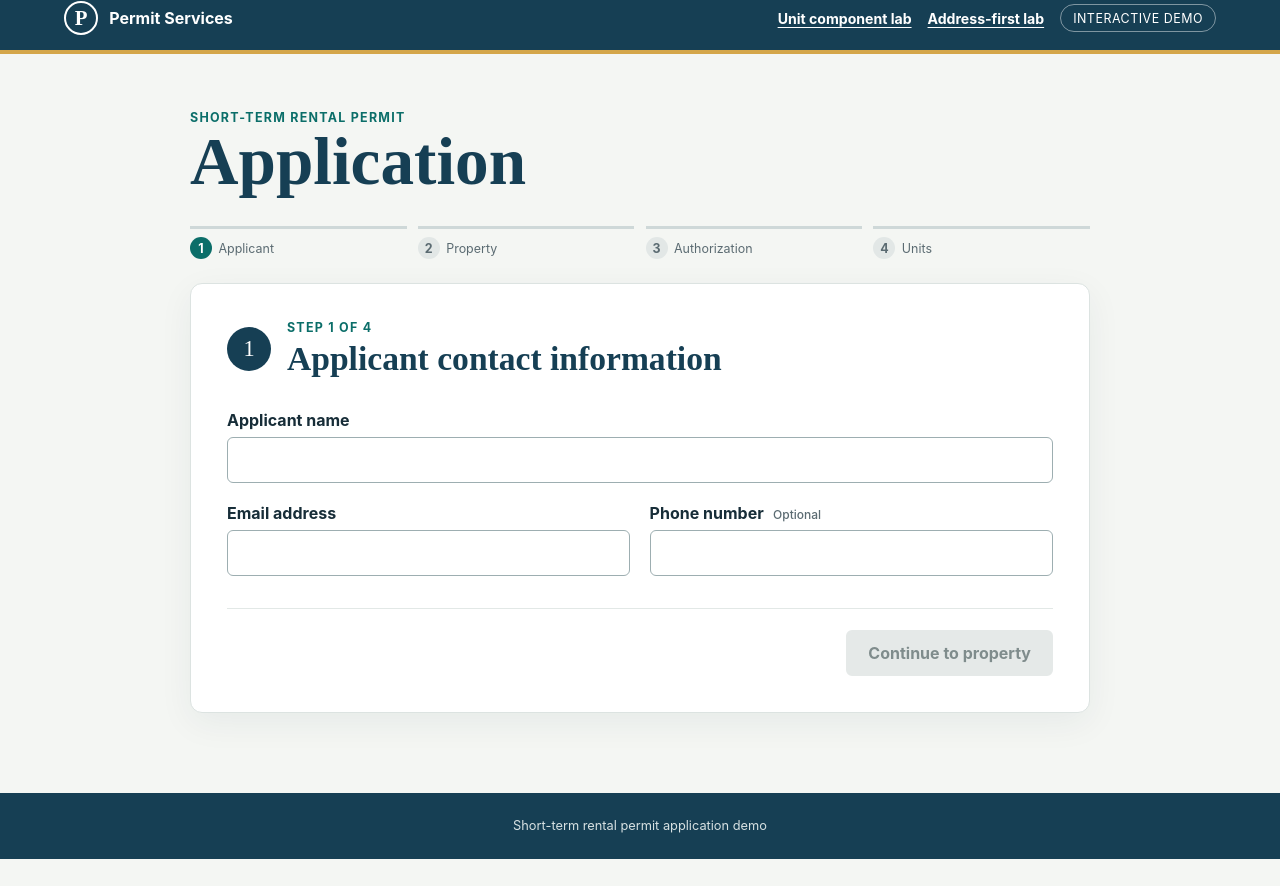
Scenario: STR permit application › finds the property by PAN and rejects an unknown PAN
The width and height of the screenshot is (1280, 886).
Type "Taylor Morgan" into the field with id "applicant-name" at [640, 460], box [227,437,1053,483]
Type "taylor@example.com" into the field with id "applicant-email" at [429, 553], box [227,530,630,576]
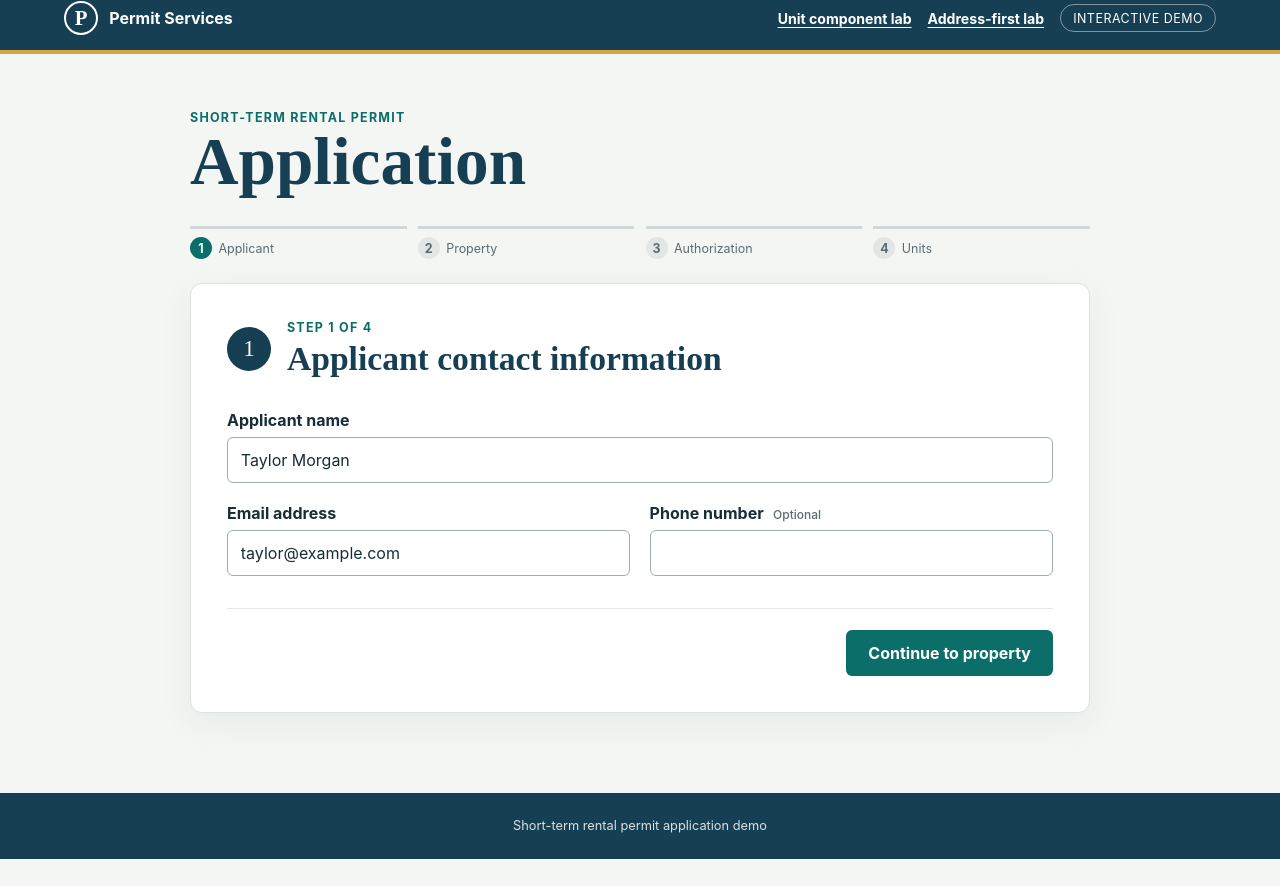
Click the button "Continue to property" at [950, 653], box [846,630,1053,676]
(page scrolled)
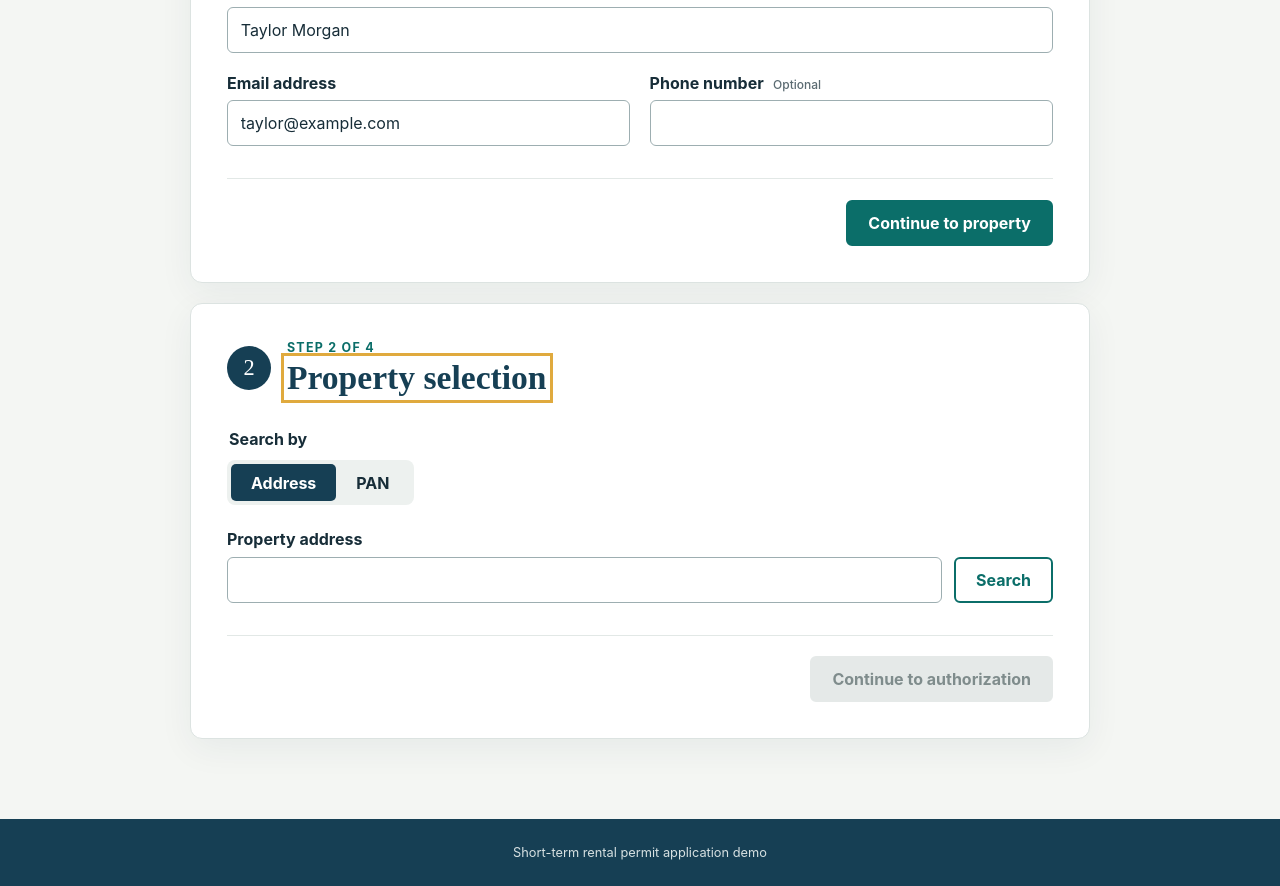
Click the radio button labelled "PAN" at [373, 483], box [356,473,390,493]
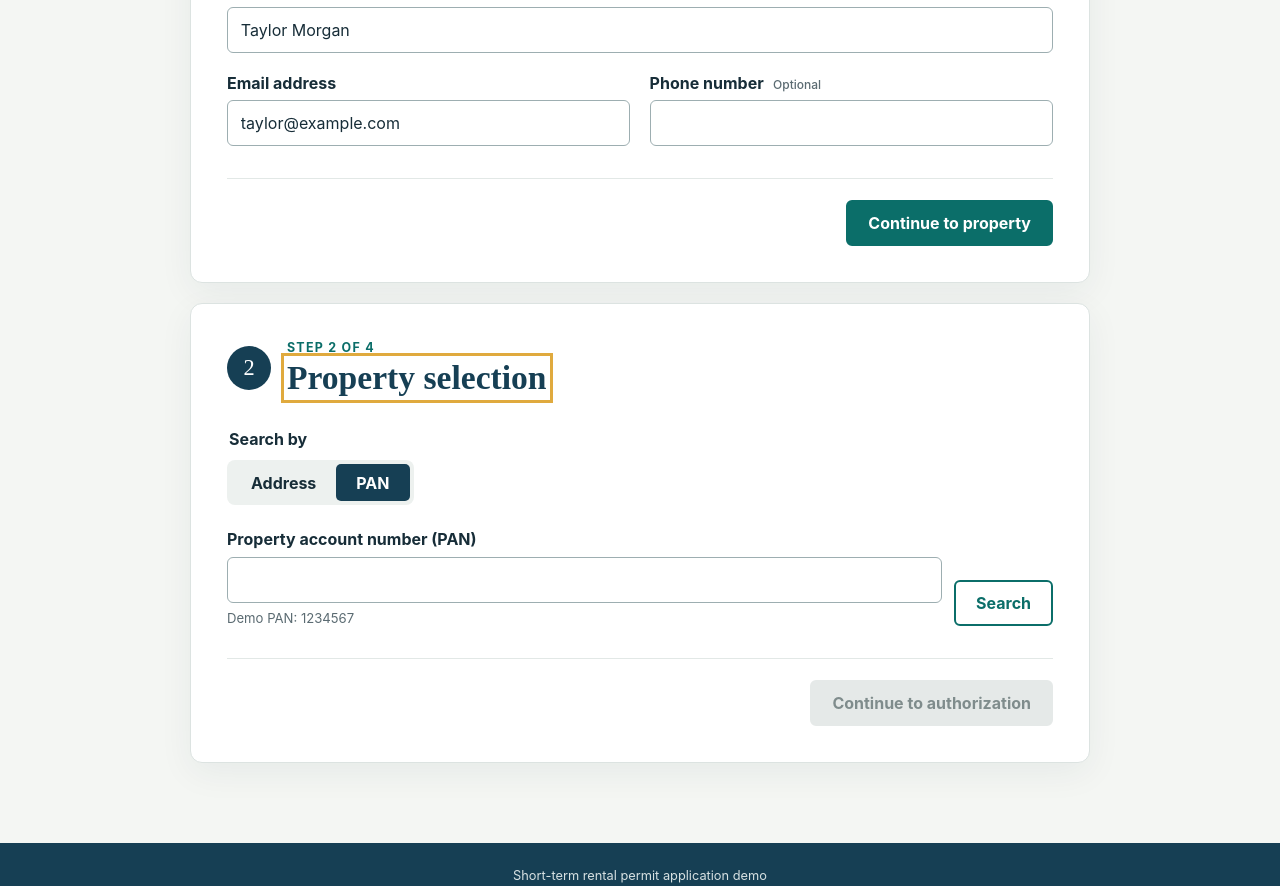
Type "1234567" into the field labelled "Property account number (PAN)" at [584, 580], box [227,556,942,602]
Click the button "Search" at [1004, 603], box [954,580,1053,626]
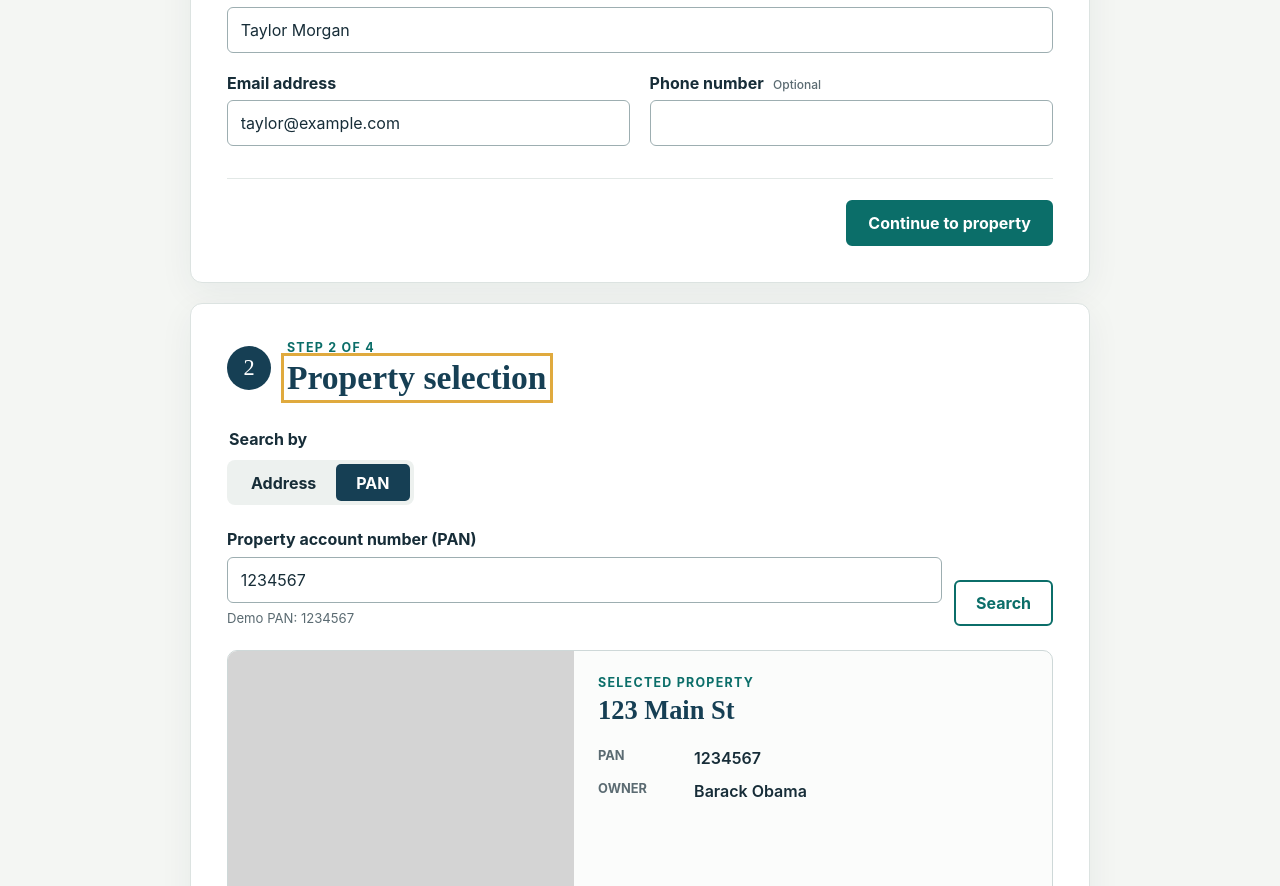
Expected: the heading "123 Main St" is shown, [598,694,734,724]
Replace the text in the field labelled "Property account number (PAN)" with "PAN-999-999" at [584, 580], box [227,556,942,602]
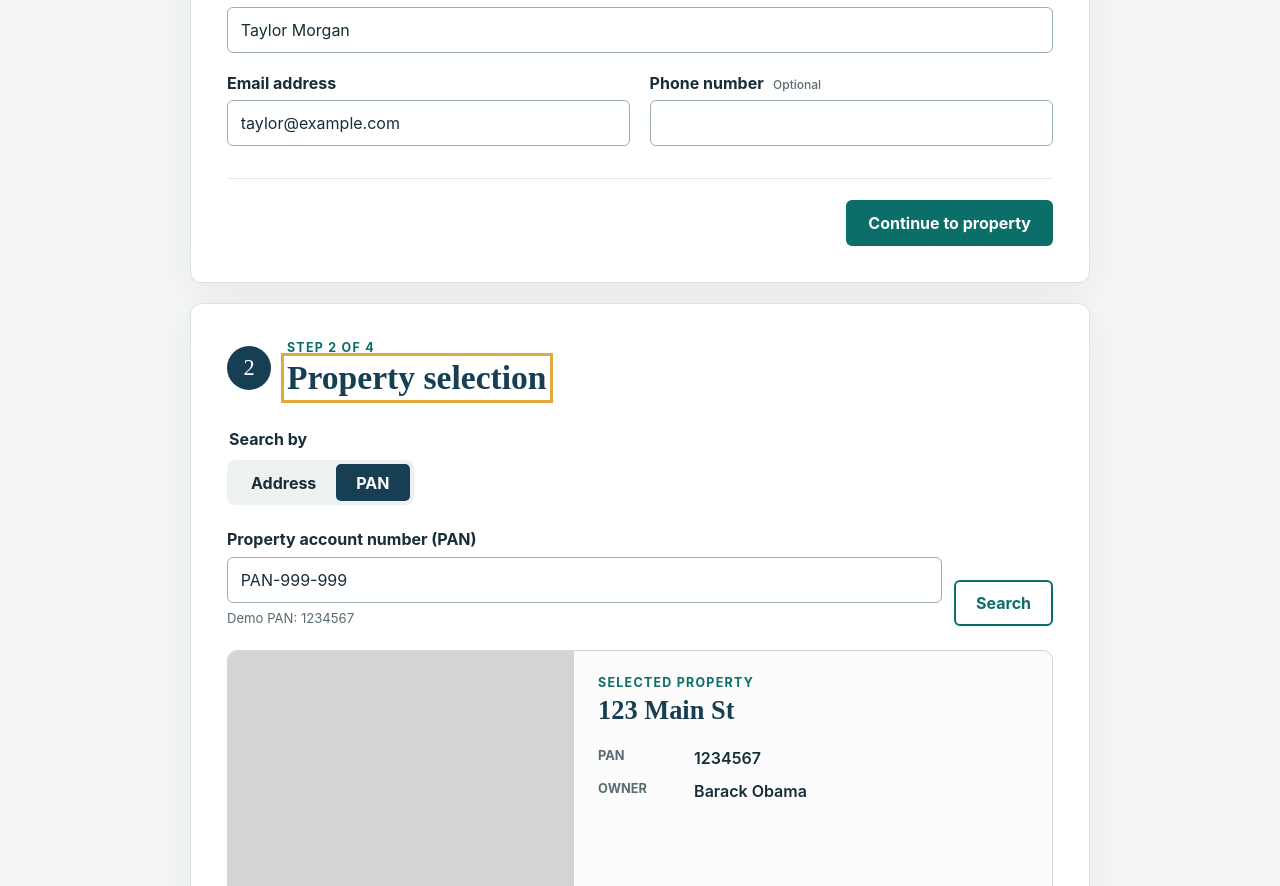
Click the button "Search" at [1004, 603], box [954,580,1053,626]
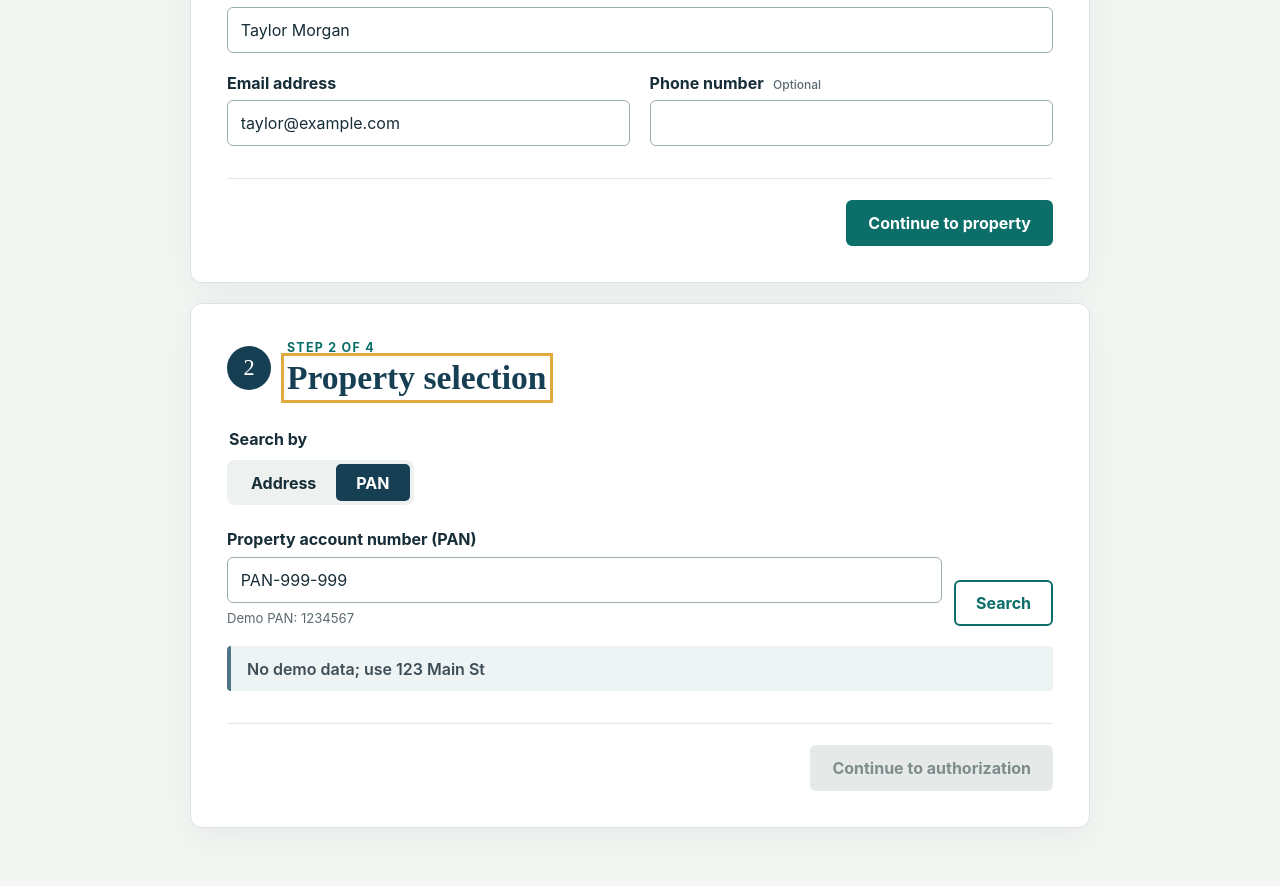
Expected: the text "No demo data; use 123 Main St" is shown, [227,646,1053,691]
